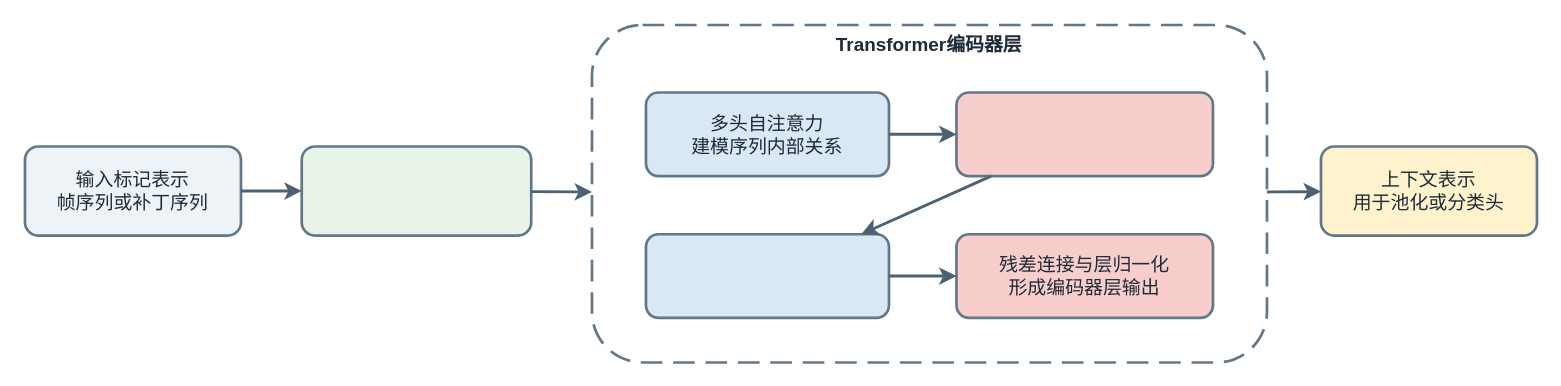
This 1561x386 diagram has some shape labels left out. The centre of each missing label's shape, as x and y in pixels:
"位置级前馈网络 重组各位置表示" belongs at point 767,275.
"加入位置编码 补充时间位置信息" belongs at point 416,190.
"残差连接与层归一化 稳定层间传递" belongs at point 1084,133.
